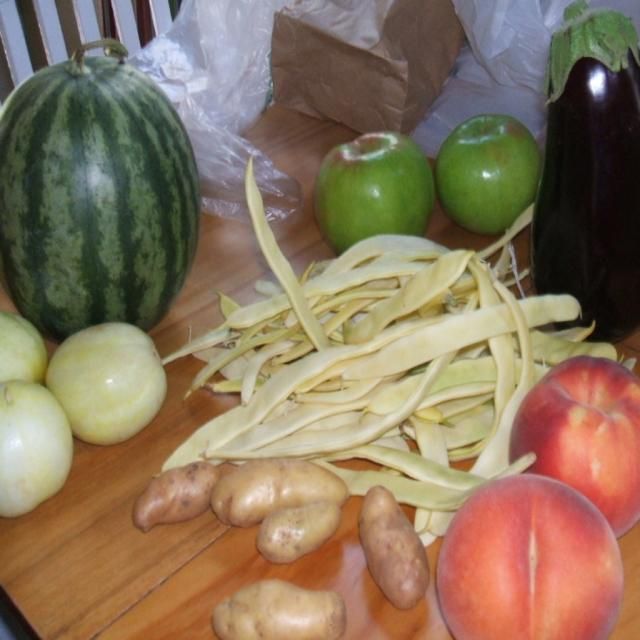Peach: (437, 474, 627, 639), (504, 351, 639, 533), (318, 132, 435, 252), (439, 114, 538, 233)
